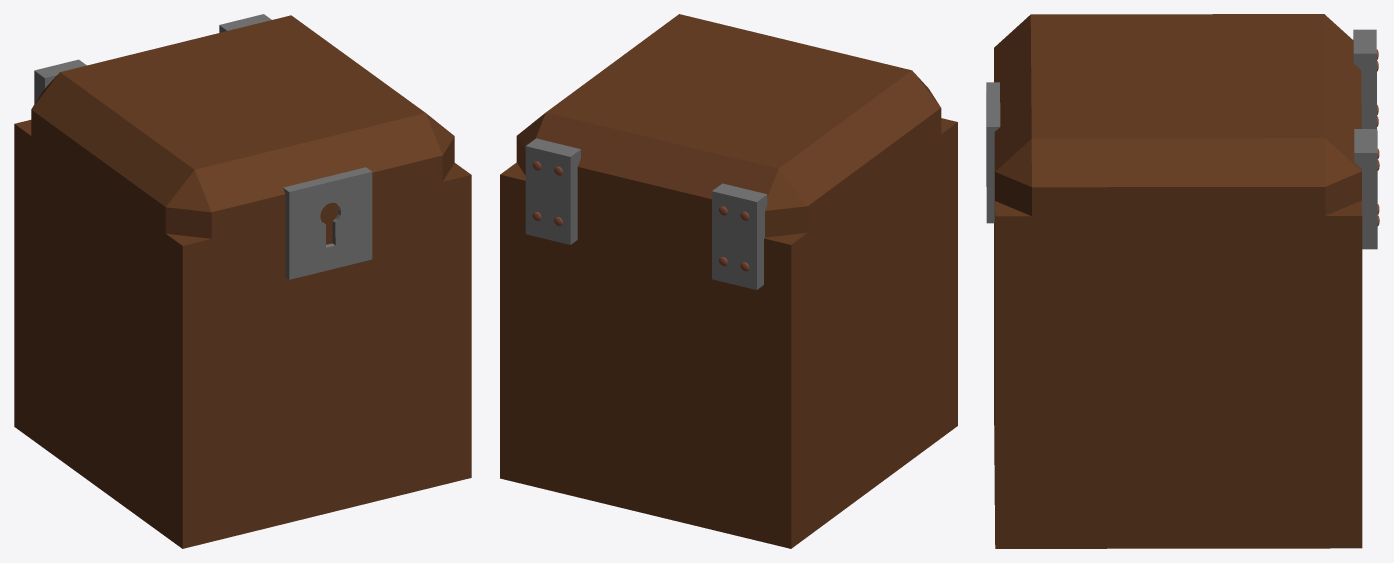
Rendered from cage.glb.
3 views of the same model, side by side, from view 1: azimuth 30°, elevation 25°; view 2: azimuth 150°, elevation 25°; view 3: azimuth 270°, elevation 25° (orthographic). The views are drawn at different scales.
Visible parts, largest first — view 1: Cube, Cube.001, Circle, Cube.003; view 2: Cube, Cube.001, Cube.002, Cube.003; view 3: Cube, Cube.001, Cube.002, Cube.003, Circle.
Boxes of the visible parts, x1,y1,x2,y2 form: Cube: (14,120,471,548); Cube.001: (31,15,454,240); Circle: (283,167,372,279); Cube.003: (34,59,86,103); Cube: (500,118,957,548); Cube.001: (516,14,941,237); Cube.002: (525,138,580,244); Cube.003: (712,183,767,289); Cube: (994,175,1362,548); Cube.001: (994,14,1361,217); Cube.002: (1354,129,1379,249); Cube.003: (1353,29,1378,128); Circle: (986,82,1000,223).
Size of the model in its own units: 1 by 1.19 by 1.07.
